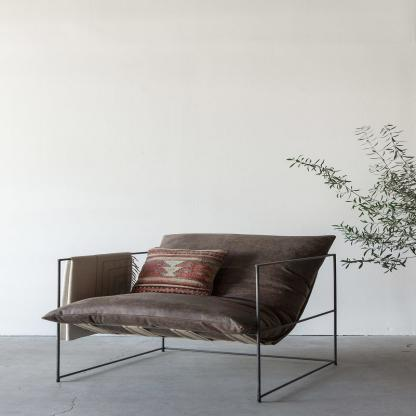chair: (35, 219, 347, 404)
